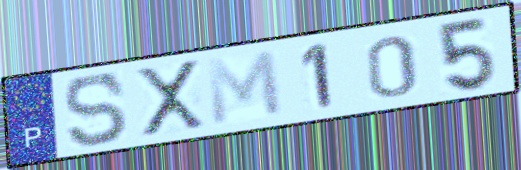0: (362, 33, 422, 101)
1: (296, 40, 335, 111)
5: (432, 13, 501, 94)
M: (203, 47, 287, 129)
S: (61, 71, 132, 150)
X: (132, 57, 209, 141)
